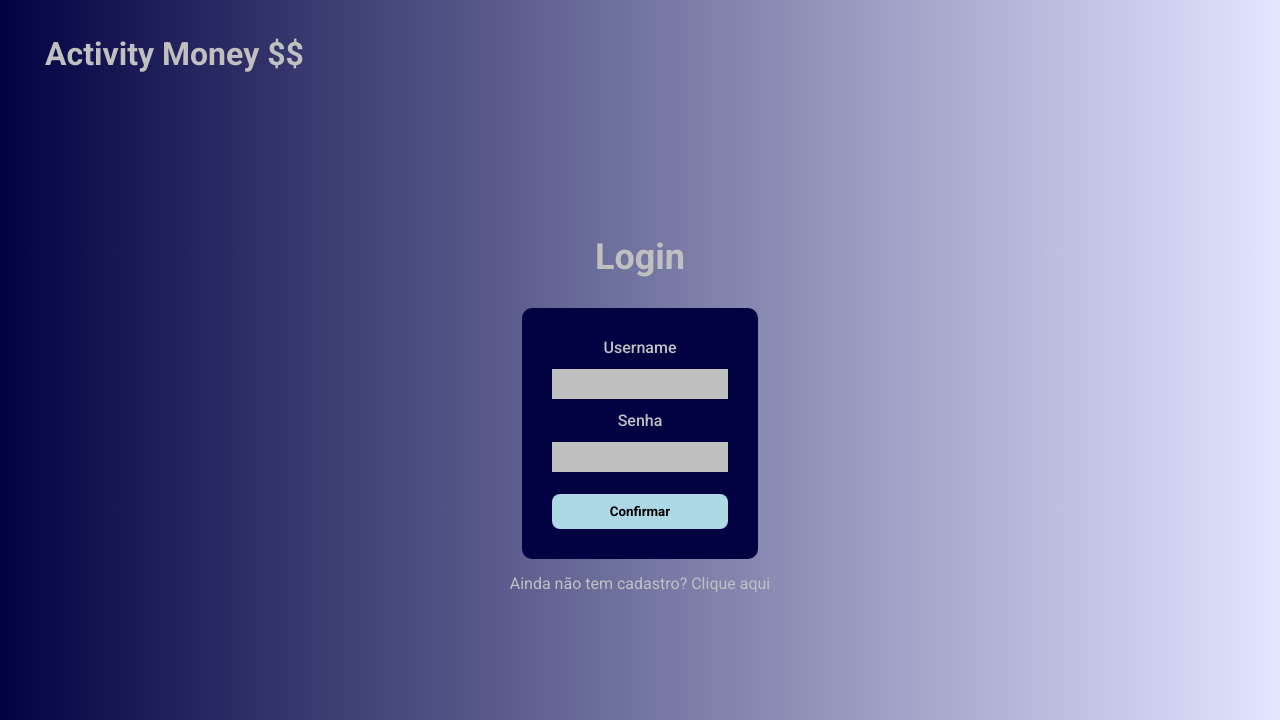
Scenario: Tests the Login page › should go to Home page when types credentials and clicks on Confirmar
In the field with test id "input-username": (640, 384) [552,369,728,399], type "rafael"
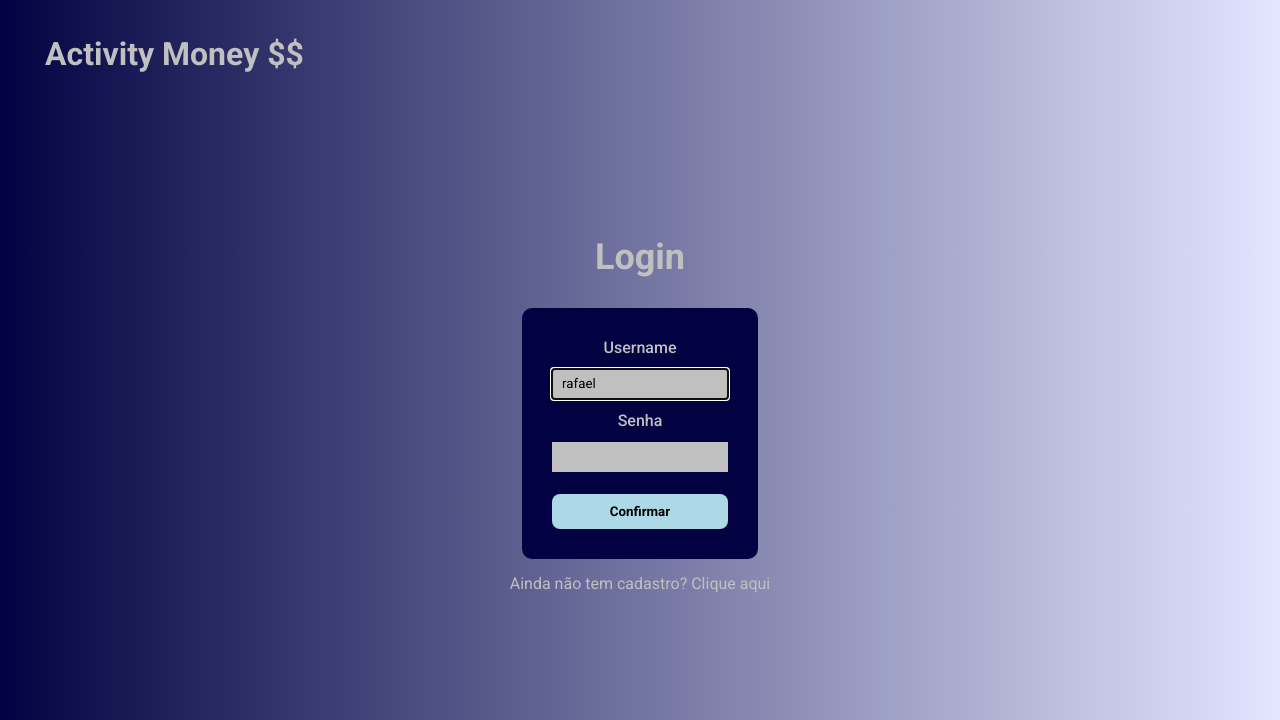
In the password field with test id "input-password": (640, 457) [552,442,728,472], type "123456"
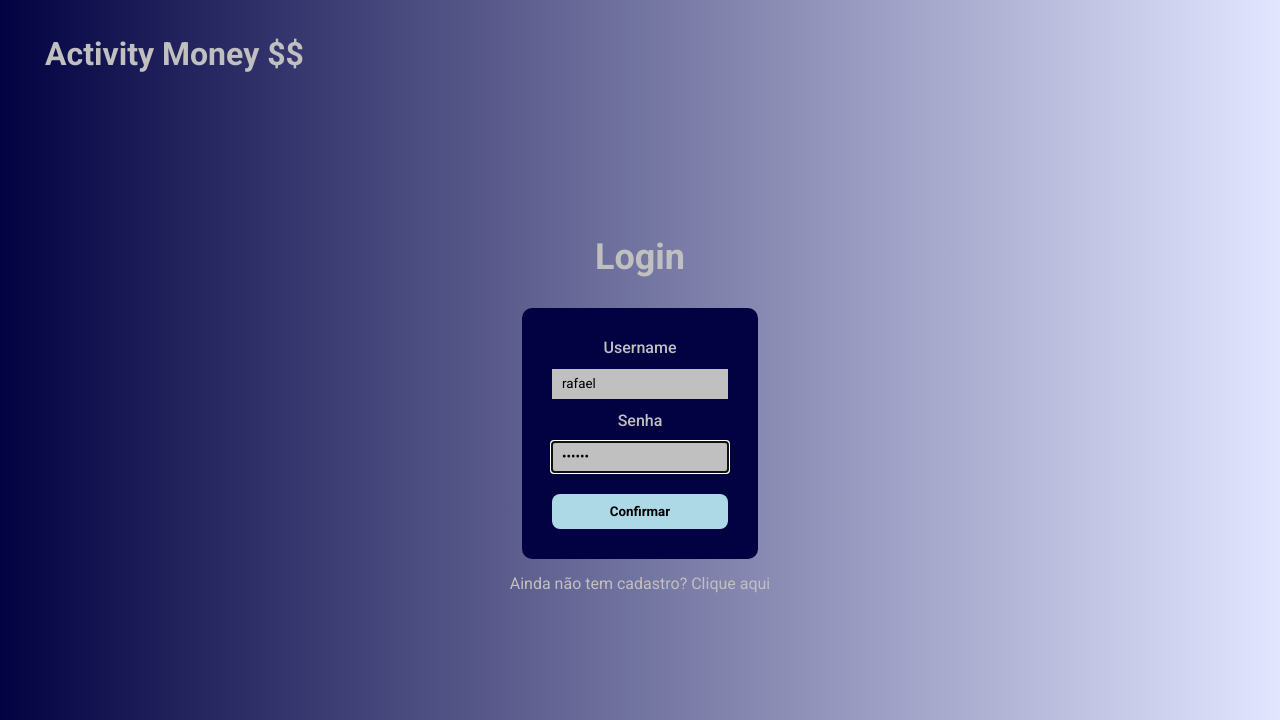
Click the button "Confirmar": (640, 512) [552,494,728,529]
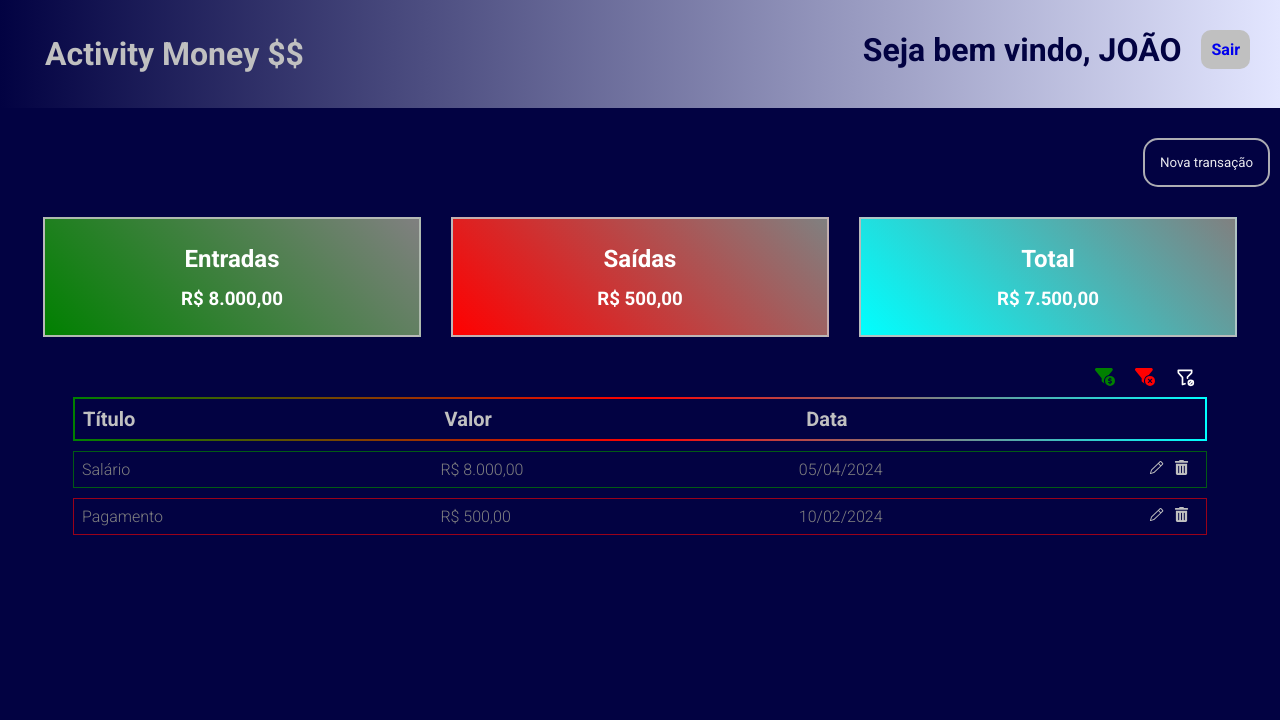
Expected: the heading "Seja bem vindo, JOÃO" is shown, [863,30,1182,68]
Expected: the heading "Entradas" is shown, [184,244,280,272]
Expected: the heading "Saídas" is shown, [604,244,676,272]
